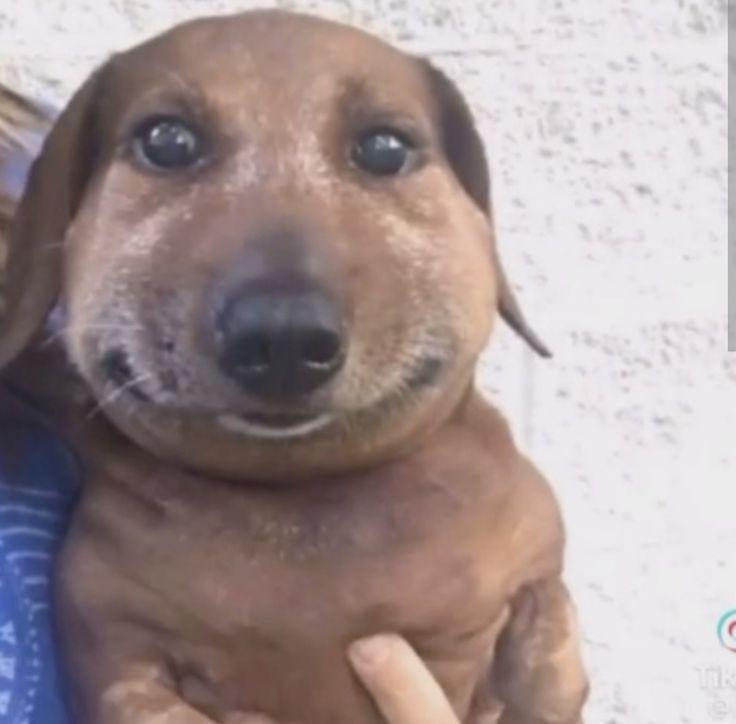adult_dog: (0, 7, 588, 724)
